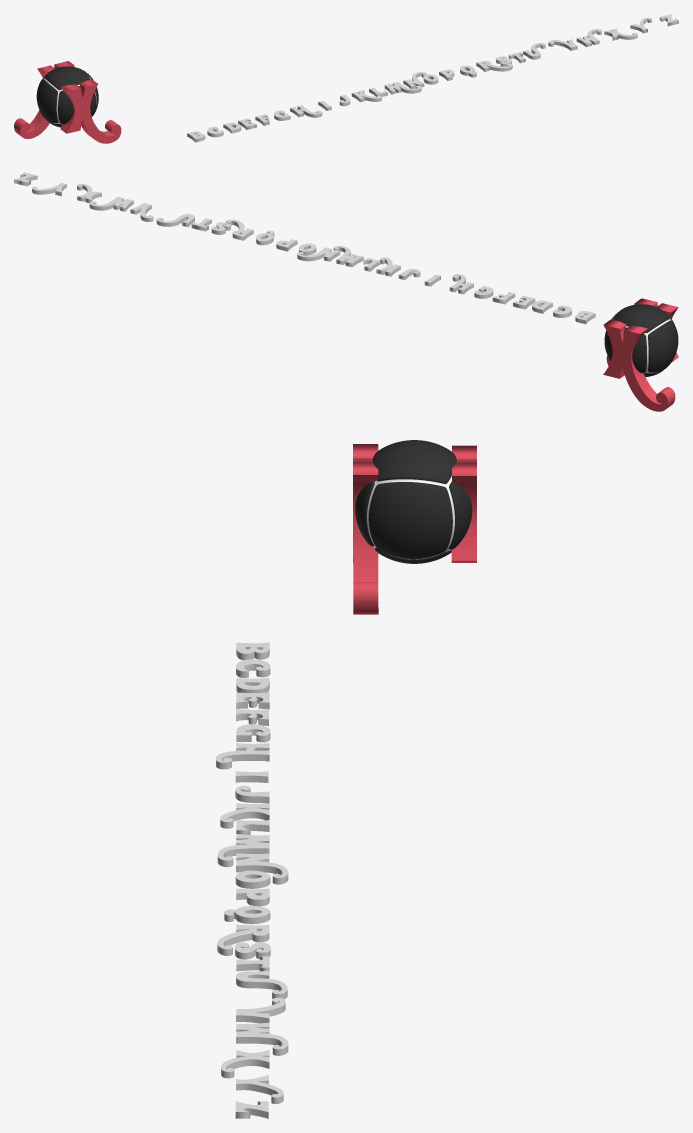
3 views of the same model, one above another, from view 1: azimuth 30°, elevation 25°; view 2: azimuth 150°, elevation 25°; view 3: azimuth 270°, elevation 25° (orthographic). The views are drawn at different scales.
Visible parts, largest first — view 1: Cube.001, A, A.001, M, W, R, H, X, N, K, U; view 2: Cube.001, A.001, W, N; view 3: Cube.001, A, A.001, W, M.
Part boxes in pixels (<box>): Cube.001: <box>36,66,98,127</box>; A: <box>60,79,121,143</box>; A.001: <box>14,61,74,138</box>; M: <box>384,82,421,94</box>; W: <box>576,29,601,47</box>; R: <box>476,60,512,71</box>; H: <box>290,105,322,117</box>; X: <box>604,28,637,40</box>; N: <box>403,72,426,88</box>; K: <box>351,90,381,102</box>; U: <box>523,43,545,59</box>; Cube.001: <box>604,304,678,377</box>; A.001: <box>603,319,675,411</box>; W: <box>89,196,133,211</box>; N: <box>297,247,340,261</box>; Cube.001: <box>355,440,472,563</box>; A: <box>353,444,378,614</box>; A.001: <box>451,445,476,562</box>; W: <box>236,1022,288,1055</box>; M: <box>217,834,269,867</box>.
Bounding box in the file's own units: 1922 × 210 × 360.
